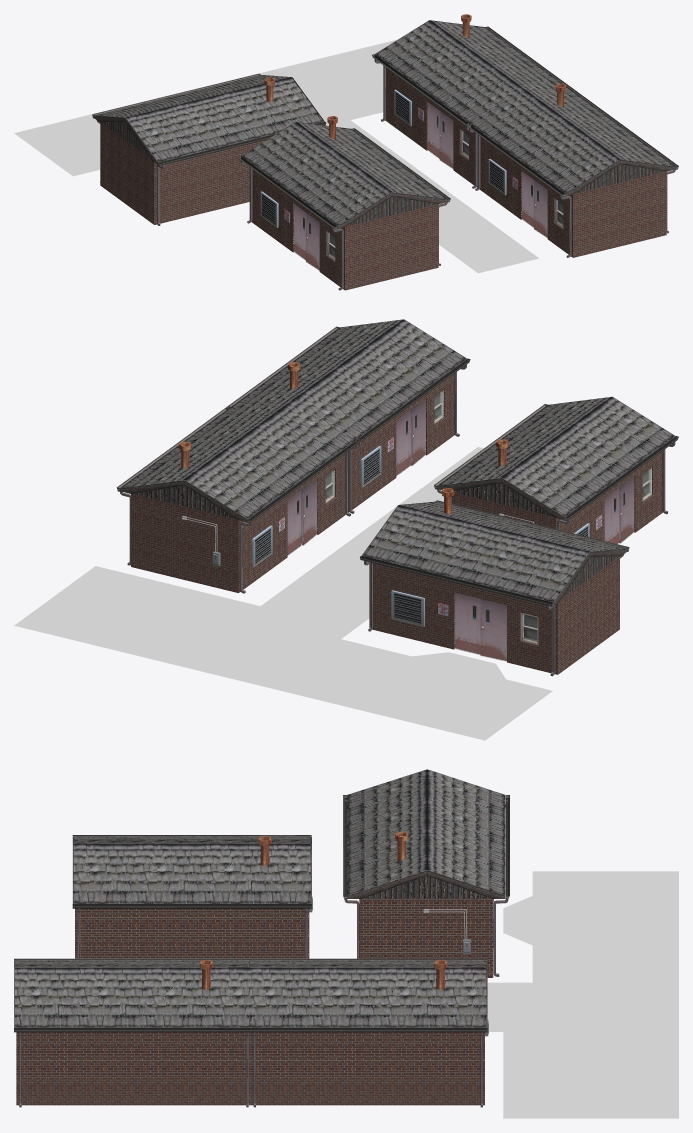
File: town.gltf
3 renders of one model, top to bottom at view 1: azimuth 30°, elevation 25°; view 2: azimuth 150°, elevation 25°; view 3: azimuth 270°, elevation 25°, orthographic. The views are drawn at different scales.
Visible parts, largest first — view 1: walkable, building_01_roof.001, building_01_roof.003, building_01_roof, building_01_roof.002, building_01.001, building_01.003, building_01, building_01.002, Door_Shed_A.003, Door_Shed_A.004, Door_Shed_A.002 (+7 smaller); view 2: walkable, building_01_roof.001, building_01_roof.002, building_01_roof, building_01_roof.003, building_01, building_01.002, building_01.001, building_01.003, Door_Shed_A.001, Door_Shed_A.003, Door_Shed_A.004 (+8 smaller); view 3: walkable, building_01_roof, building_01.003, building_01.002, building_01_roof.001, building_01_roof.003, building_01_roof.002, building_01.001, building_01, building_01_guttertop.002, building_01_guttertop.007, building_01_guttertop.005 (+2 smaller).
Boxes of the visible parts, x1,y1,x2,y2 form: walkable: (14, 39, 538, 273); building_01_roof.001: (241, 122, 447, 228); building_01_roof.003: (471, 89, 675, 195); building_01_roof: (94, 75, 324, 164); building_01_roof.002: (375, 20, 579, 124); building_01.001: (252, 169, 438, 290); building_01.003: (479, 136, 666, 257); building_01: (100, 122, 265, 224); building_01.002: (385, 67, 477, 187); Door_Shed_A.003: (427, 102, 453, 168); Door_Shed_A.004: (522, 171, 547, 238); Door_Shed_A.002: (294, 204, 319, 270); walkable: (14, 447, 552, 740); building_01_roof.001: (437, 396, 674, 519); building_01_roof.002: (120, 399, 357, 521); building_01_roof: (362, 501, 627, 604); building_01_roof.003: (230, 319, 466, 437); building_01: (369, 556, 619, 674); building_01.002: (131, 454, 345, 592); building_01.001: (452, 451, 662, 540); building_01.003: (348, 374, 454, 512); Door_Shed_A.001: (454, 593, 506, 661); Door_Shed_A.003: (287, 479, 317, 555); Door_Shed_A.004: (396, 399, 425, 476); walkable: (487, 871, 678, 1118); building_01_roof: (347, 769, 505, 898); building_01.003: (16, 1032, 250, 1105); building_01.002: (250, 1032, 484, 1105); building_01_roof.001: (72, 836, 311, 906); building_01_roof.003: (14, 960, 251, 1027); building_01_roof.002: (248, 960, 487, 1027); building_01.001: (75, 908, 309, 958); building_01: (359, 898, 493, 977); building_01_guttertop.002: (72, 903, 311, 908); building_01_guttertop.007: (14, 1027, 253, 1032); building_01_guttertop.005: (253, 1027, 487, 1032).
Size of what is drawn, in the model's own units: 20 by 4.7 by 22.7.
60 materials, 60 textured.
